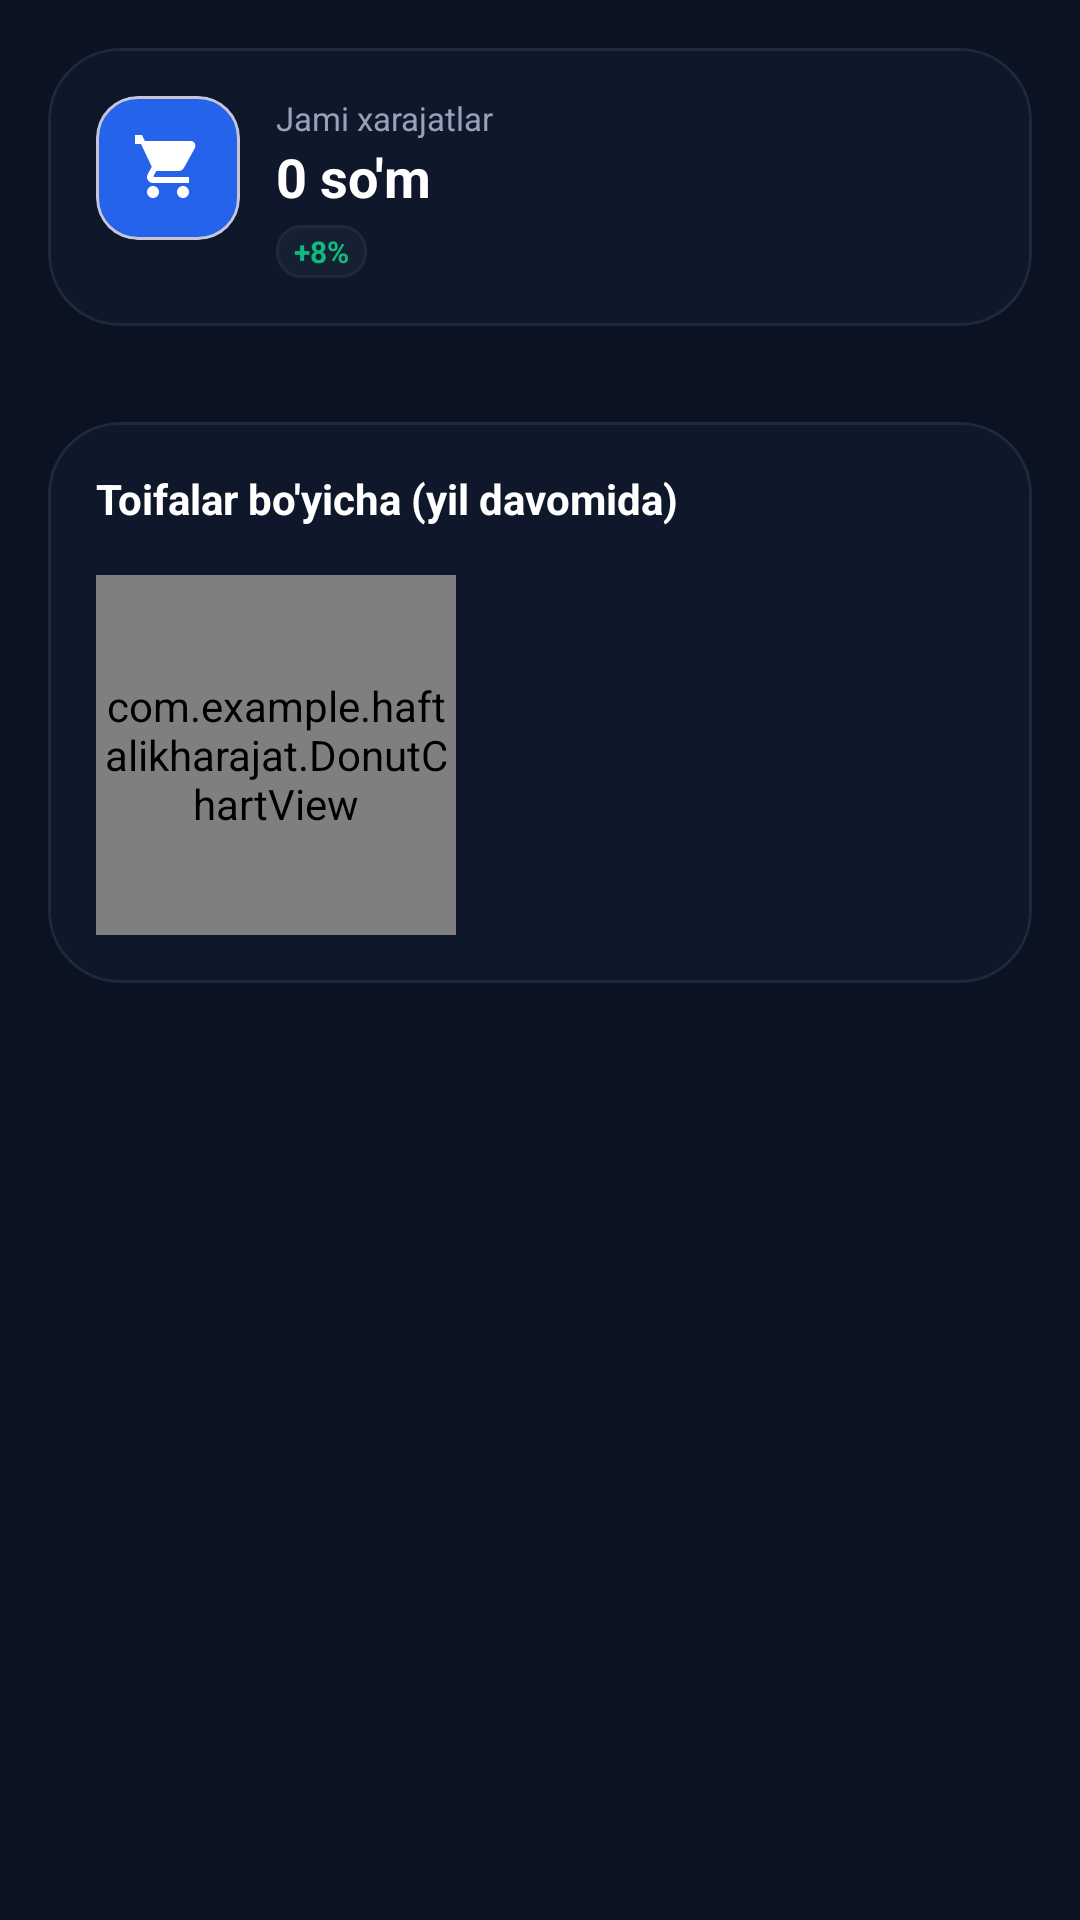

Named icons in this screenshot (1080 × 1920) and their bounding boxes, box(x1, y1, x2, y2):
shopping: box(135, 135, 196, 198)
